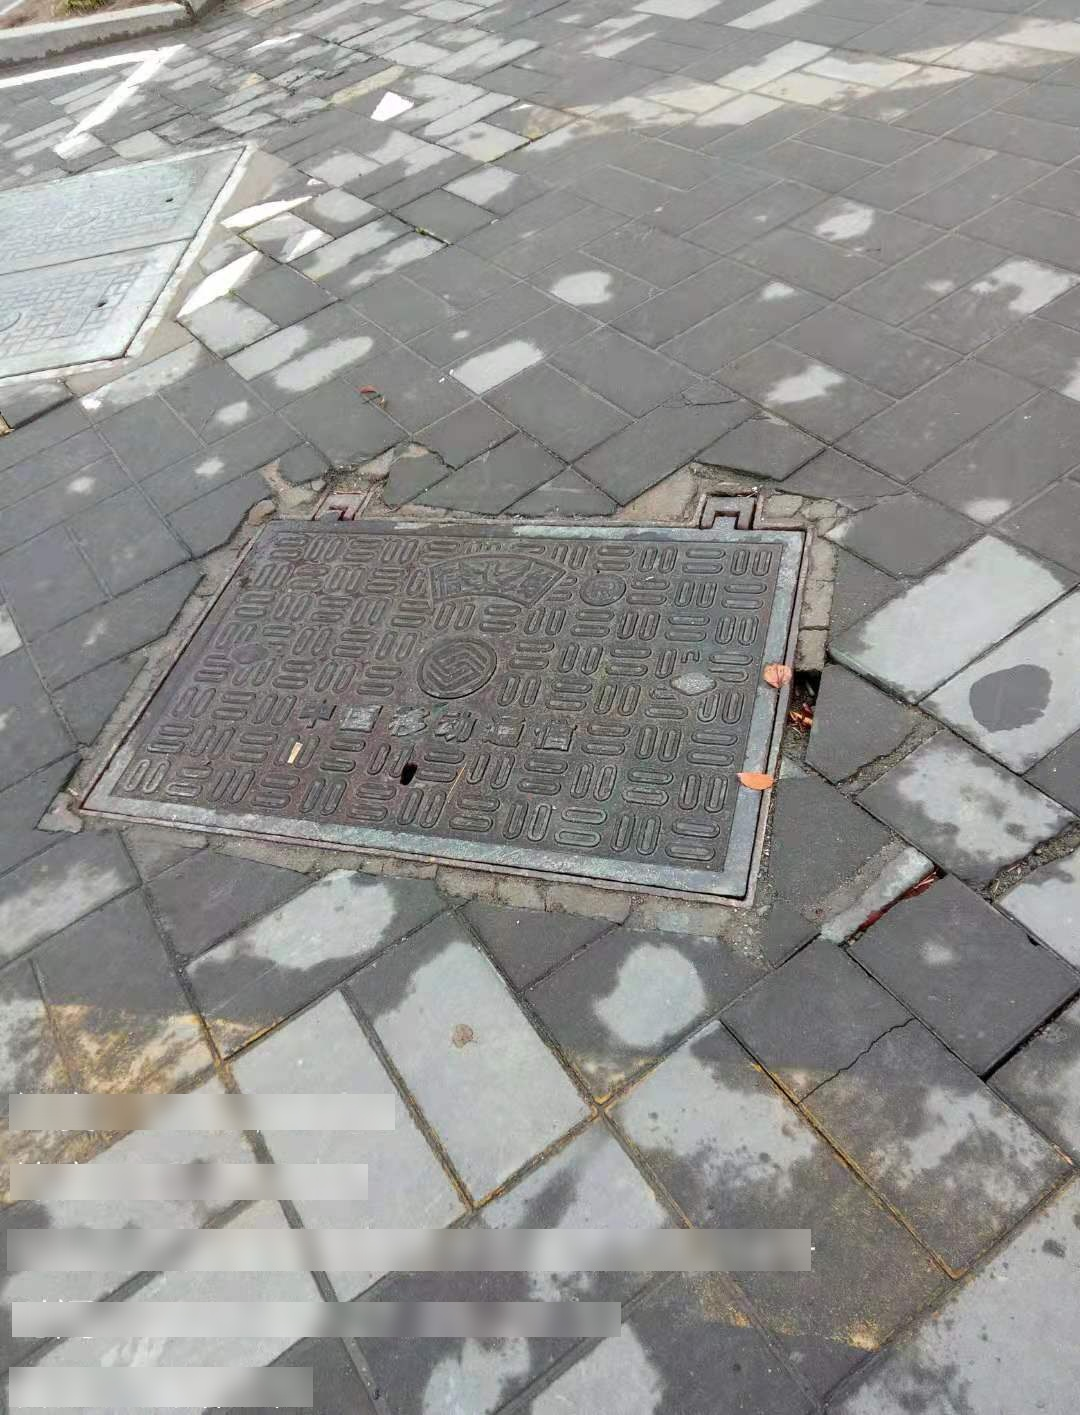good: (73, 494, 810, 911), (1, 137, 253, 371)
